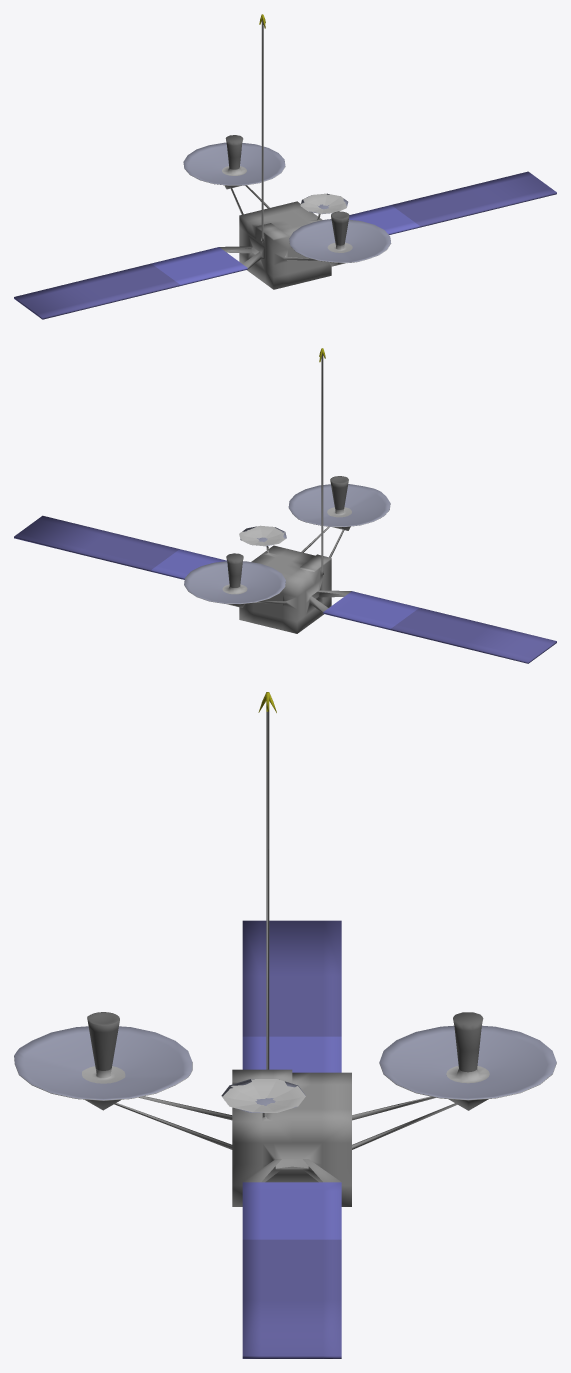
Rendered from TrackingandDataRelaySatellitesTDRSA.glb.
The picture shows the model from 3 angles, top to bottom: view 1: azimuth 30°, elevation 25°; view 2: azimuth 150°, elevation 25°; view 3: azimuth 270°, elevation 25°; orthographic projection. The views are drawn at different scales.
Visible parts, largest first — view 1: polySurface5, transform8; view 2: polySurface5, transform8; view 3: polySurface5, transform8.
Boxes of the visible parts, <box> form: polySurface5: <box>14,14,556,319</box>; transform8: <box>300,193,346,219</box>; polySurface5: <box>14,348,556,663</box>; transform8: <box>239,525,285,551</box>; polySurface5: <box>14,692,556,1358</box>; transform8: <box>221,1079,305,1116</box>.
Size of the model in its own units: 0.8866 by 0.4489 by 0.4676.
